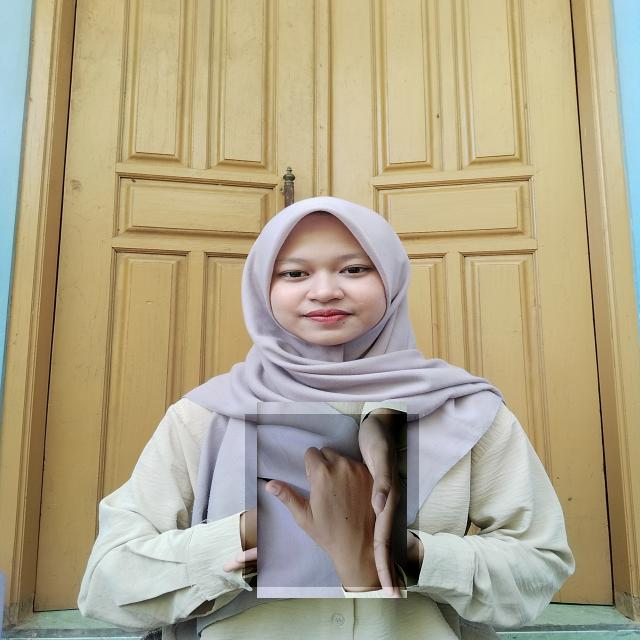cantik: (245, 414, 419, 587)
